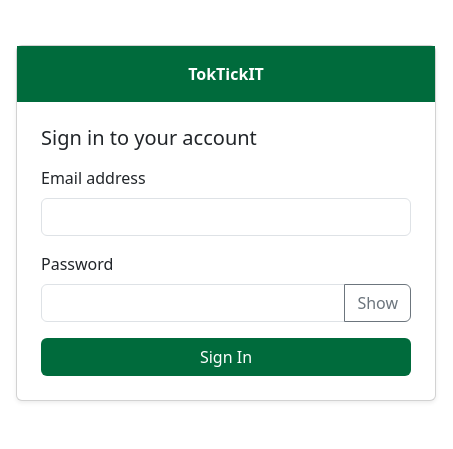
Test: Login › shows the generic error banner on invalid credentials
Check: the button "Sign In" is shown, box [41,338,411,376]
Type "a@b.com" into the field labelled "Email address" at (226, 217), box [41,198,411,236]
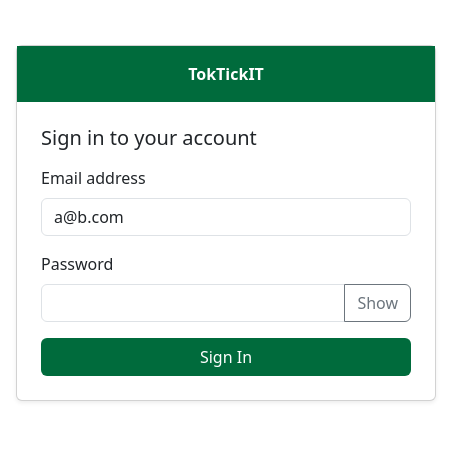
Type "wrongpass1" into the password field labelled "Password" at (193, 303), box [41,284,345,322]
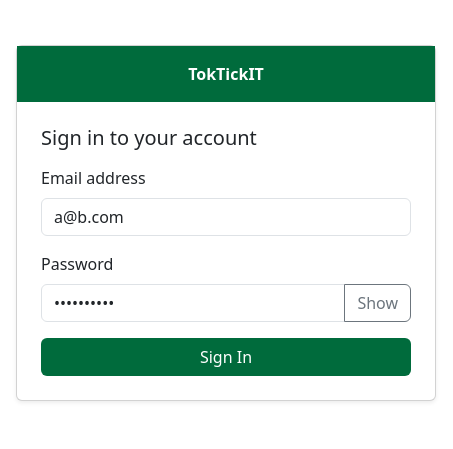
Click the button "Sign In" at (226, 357), box [41,338,411,376]
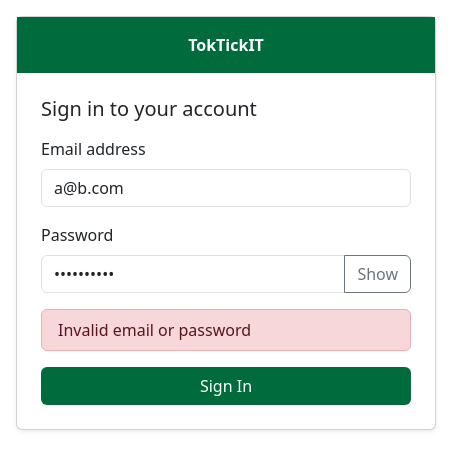
Check: the text "Invalid email or password" is shown, box [41,309,411,351]
